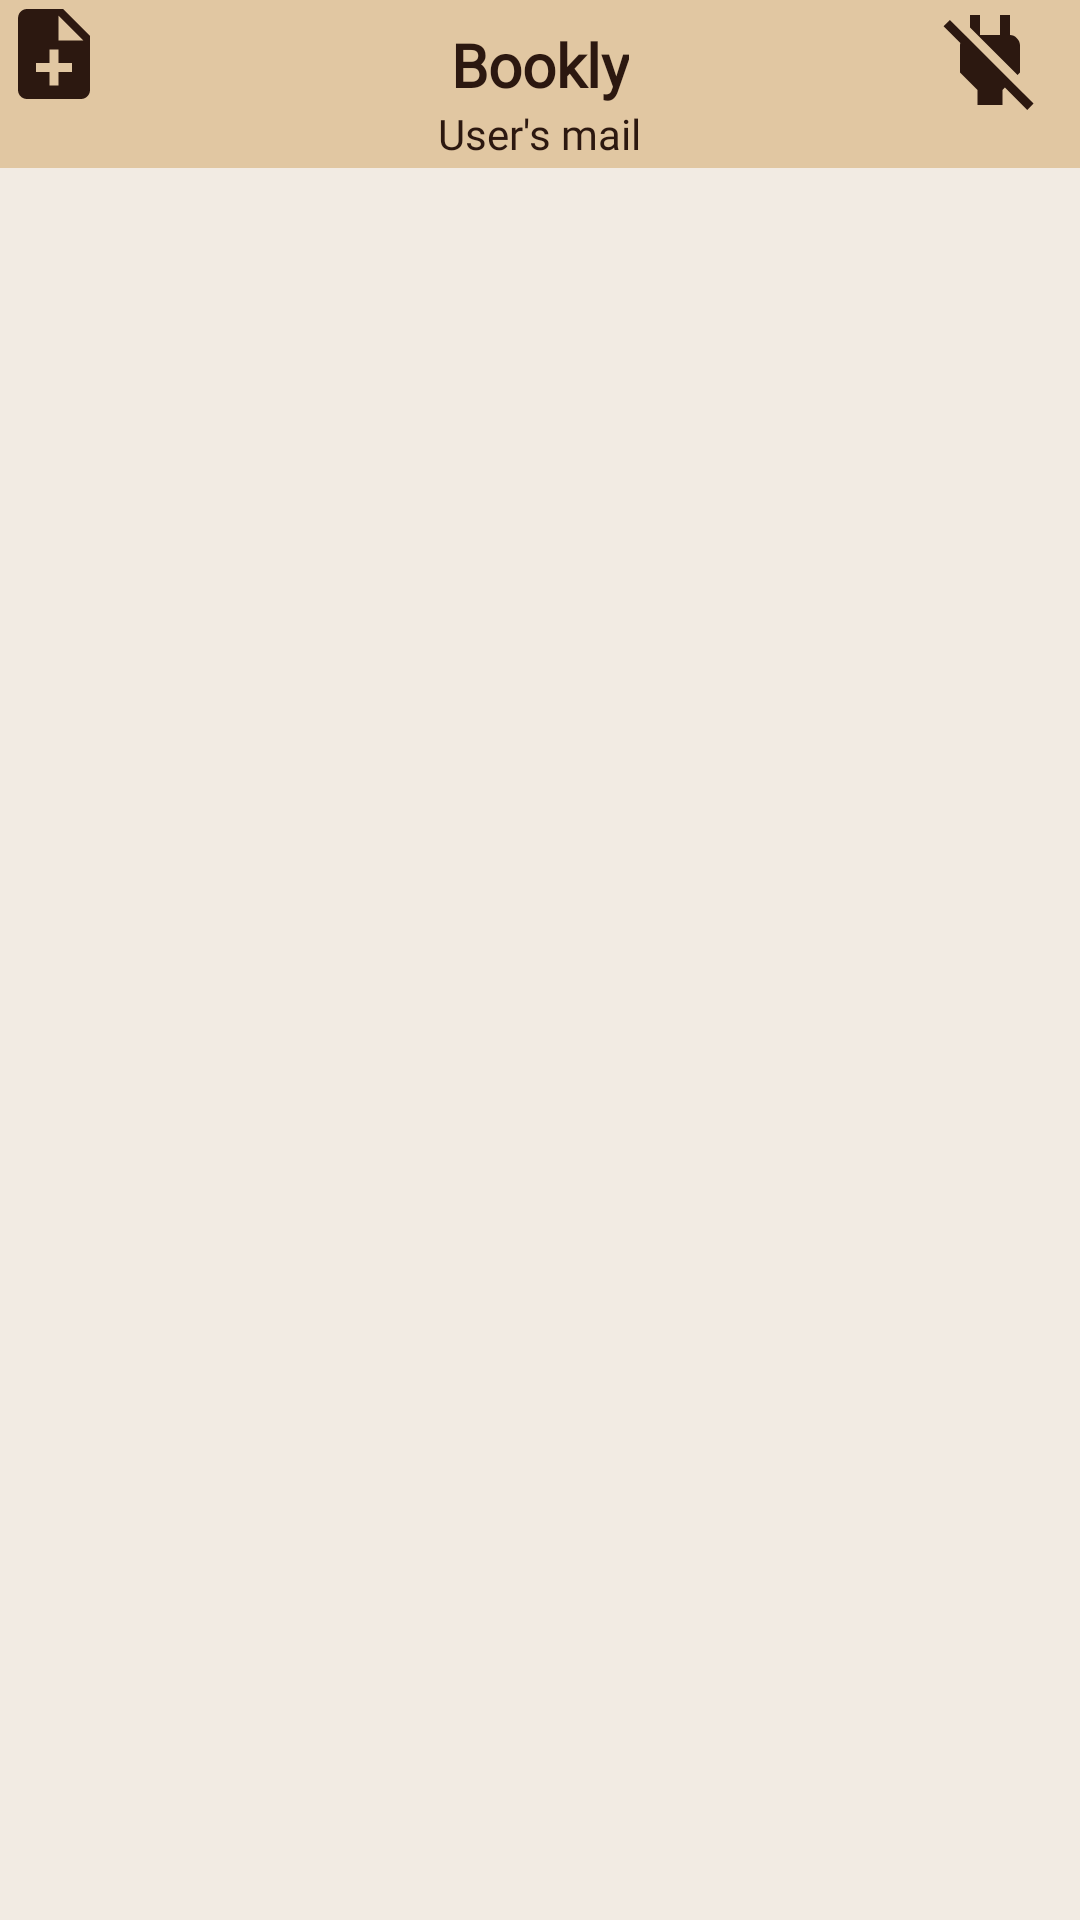

Icon bounding boxes for this 1080×1920 phone screenshot, format (x1, y1, x2, y2):
add brown: (18, 9, 90, 99)
power off: (943, 15, 1034, 110)
